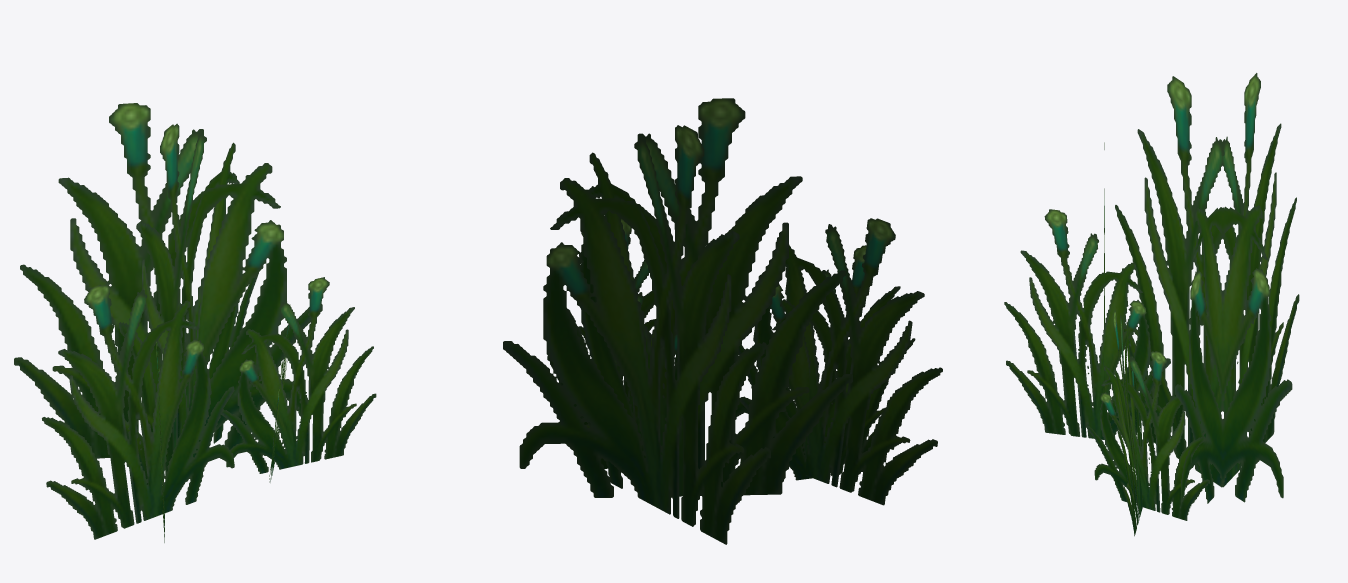
Rendered from Bush_3.FBX.
3 views of the same model, side by side, from view 1: azimuth 30°, elevation 25°; view 2: azimuth 150°, elevation 25°; view 3: azimuth 270°, elevation 25° (orthographic). The views are drawn at different scales.
Visible parts, largest first — view 1: Map1_Bush_6; view 2: Map1_Bush_6; view 3: Map1_Bush_6.
Part boxes in pixels (bbox=[...]): Map1_Bush_6: bbox=[14, 103, 376, 542]; Map1_Bush_6: bbox=[503, 98, 942, 544]; Map1_Bush_6: bbox=[1004, 73, 1299, 536].
Bounding box in the file's own units: 32.25 × 22.79 × 29.95.
